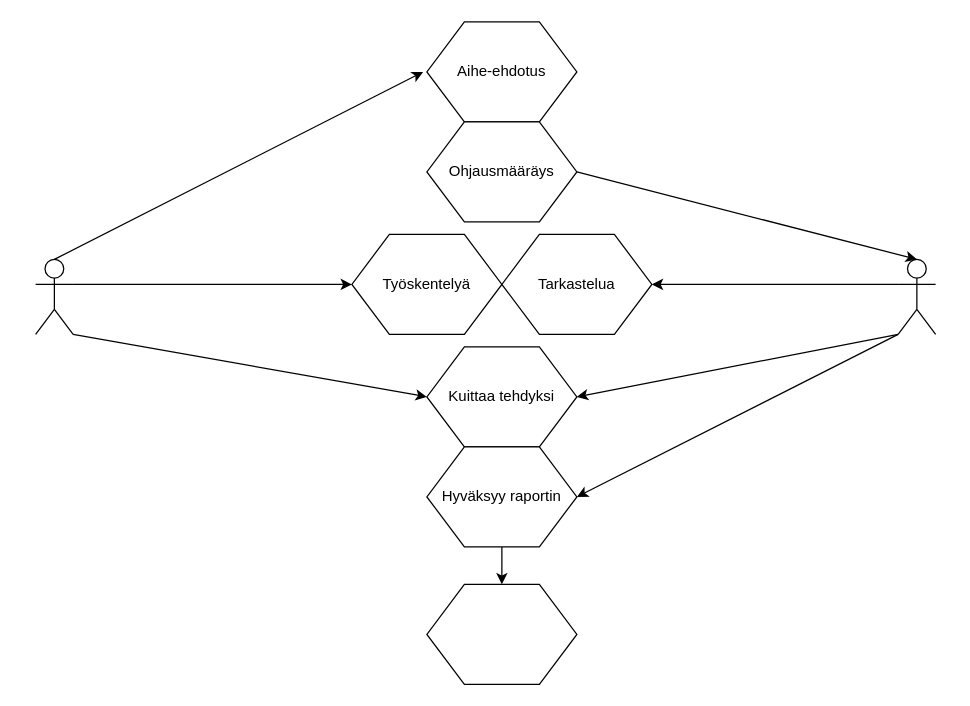
The diagram is 970 pixels wide and 706 high, and some of its shapes have lost their labels. Each missing label, with the centre of its shape:
"Lähtee eteenpäin" belongs at point 501,633.
"Ohjaaja 1" belongs at point 916,296.
"Opiskelija" belongs at point 53,296.
